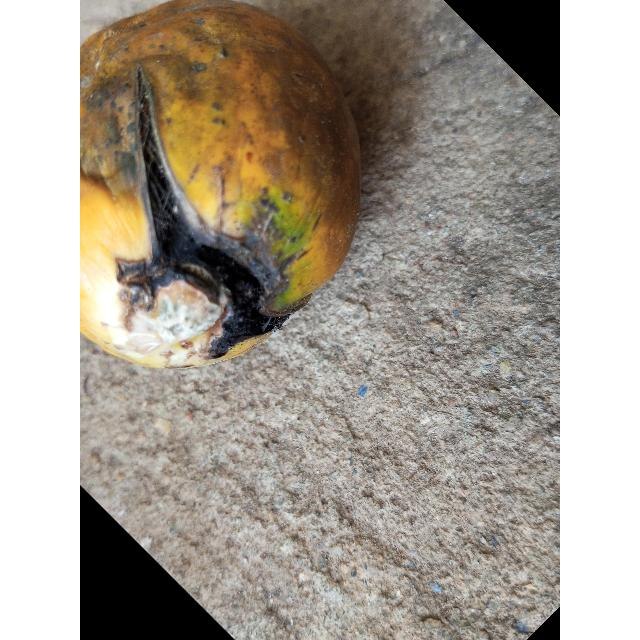damaged: (80, 0, 362, 373)
